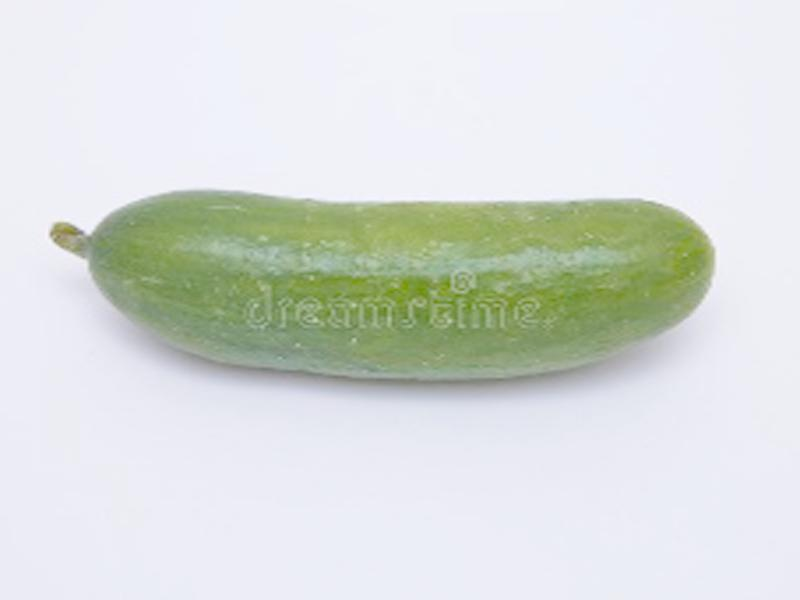Cucumber: (49, 190, 715, 381)
